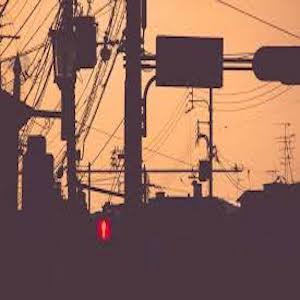red: (96, 220, 110, 240)
